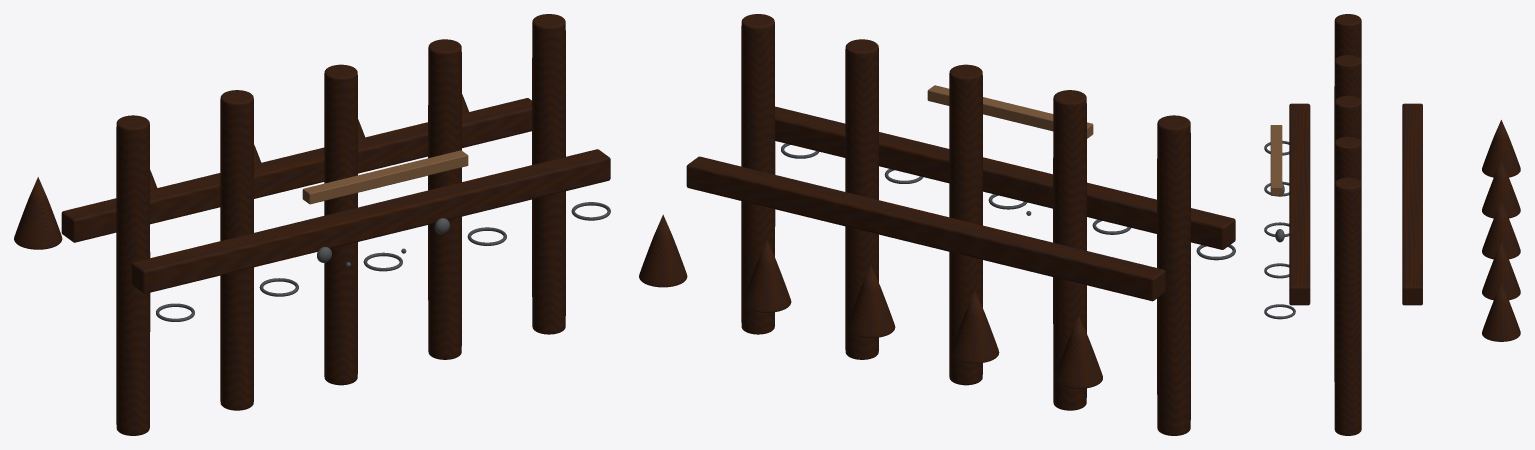
File: palisade.glb
3 renders of one model, left to right at view 1: azimuth 30°, elevation 25°; view 2: azimuth 150°, elevation 25°; view 3: azimuth 270°, elevation 25°, orthographic. The views are drawn at different scales.
Parts seen in each view (by area): view 1: Palisade_Rail_B, Palisade_Rail_A, Palisade_Post_00, Palisade_Post_04, Palisade_Post_01, Palisade_Post_02, Palisade_Post_03, palisade_detail_trim, Palisade_Tip_00; view 2: Palisade_Rail_A, Palisade_Rail_B, Palisade_Post_00, Palisade_Post_04, Palisade_Post_02, Palisade_Post_01, Palisade_Post_03, Palisade_Tip_04, Palisade_Tip_01, Palisade_Tip_03, Palisade_Tip_02, Palisade_Tip_00 (+1 smaller); view 3: Palisade_Post_04, Palisade_Rail_B, Palisade_Rail_A, Palisade_Tip_04, Palisade_Tip_03, Palisade_Tip_02, Palisade_Tip_00, Palisade_Tip_01, Palisade_Post_03, Palisade_Post_00, Palisade_Post_01, Palisade_Post_02 (+1 smaller).
Boxes of the visible parts, x1,y1,x2,y2 form: Palisade_Rail_B: [131, 149, 610, 293]; Palisade_Rail_A: [61, 98, 531, 242]; Palisade_Post_00: [116, 115, 150, 435]; Palisade_Post_04: [532, 14, 565, 334]; Palisade_Post_01: [220, 90, 253, 410]; Palisade_Post_02: [324, 64, 357, 385]; Palisade_Post_03: [428, 39, 461, 359]; palisade_detail_trim: [302, 150, 468, 204]; Palisade_Tip_00: [14, 177, 62, 249]; Palisade_Rail_A: [686, 156, 1165, 301]; Palisade_Rail_B: [775, 106, 1235, 249]; Palisade_Post_00: [1157, 115, 1190, 435]; Palisade_Post_04: [741, 14, 775, 334]; Palisade_Post_02: [949, 64, 982, 385]; Palisade_Post_01: [1053, 90, 1086, 410]; Palisade_Post_03: [845, 39, 878, 359]; Palisade_Tip_04: [639, 214, 687, 287]; Palisade_Tip_01: [951, 291, 999, 363]; Palisade_Tip_03: [743, 240, 791, 312]; Palisade_Tip_02: [847, 265, 895, 337]; Palisade_Tip_00: [1055, 316, 1102, 388]; Palisade_Post_04: [1334, 177, 1361, 435]; Palisade_Rail_B: [1289, 103, 1310, 305]; Palisade_Rail_A: [1402, 103, 1422, 305]; Palisade_Tip_04: [1482, 283, 1520, 341]; Palisade_Tip_03: [1482, 242, 1520, 300]; Palisade_Tip_02: [1482, 201, 1520, 259]; Palisade_Tip_00: [1482, 120, 1520, 177]; Palisade_Tip_01: [1482, 160, 1520, 218]; Palisade_Post_03: [1334, 136, 1361, 249]; Palisade_Post_00: [1334, 14, 1361, 126]; Palisade_Post_01: [1334, 55, 1361, 167]; Palisade_Post_02: [1334, 95, 1361, 208].
Bounding box in the file's own units: 5.4 × 3.4 × 3.18.
Materials: 8 (2 with a texture image).
